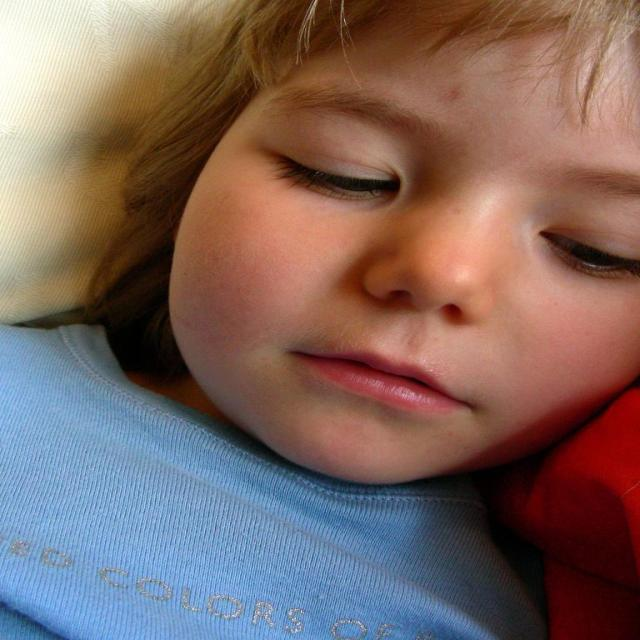no-glass: (248, 148, 640, 274)
